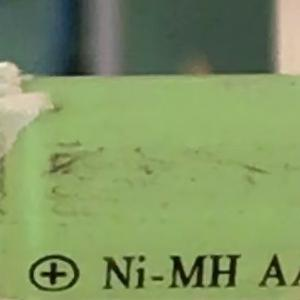keyword: (93, 245, 239, 299)
